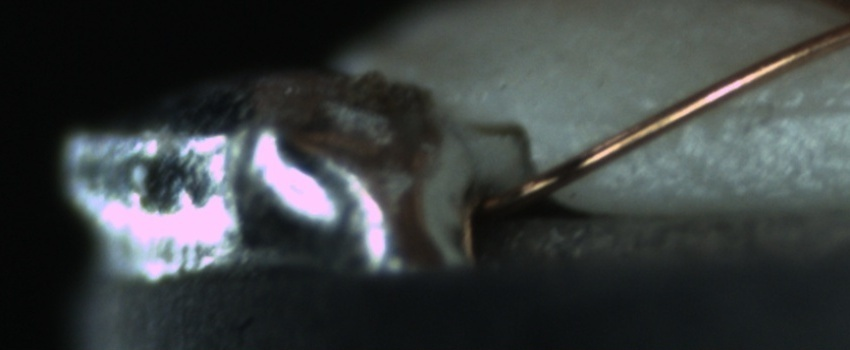DL: (617, 81, 850, 146)
